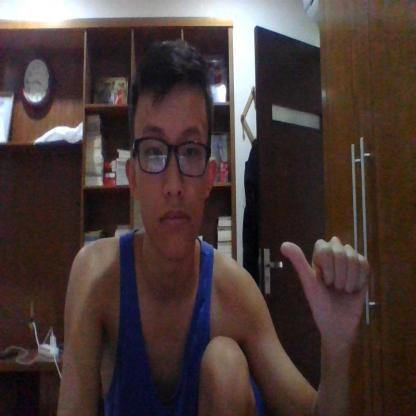right: (278, 219, 371, 341)
